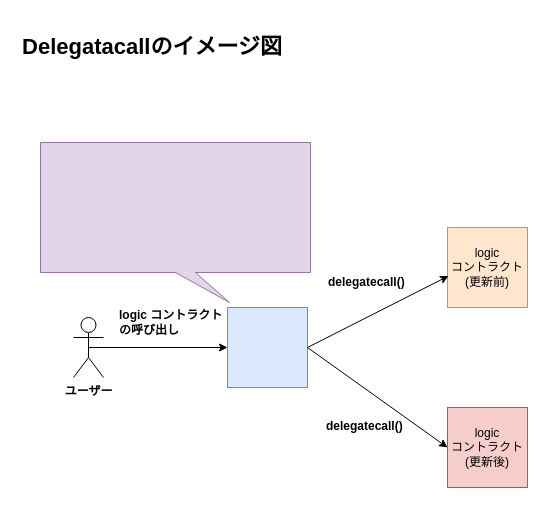
Image size: 545x505. Some labels were removed from this diagram. The shapes that lost their labels are listed below. From the top down, each one's centre as x and y in pixels, then its label:
[175,222]: 変更される値 1 proxyコントラクトに登録されている logicコントラクトのアドレス 変更される値 2 proxyコントラクト内で保持している変数
[267,347]: proxy コントラクト
